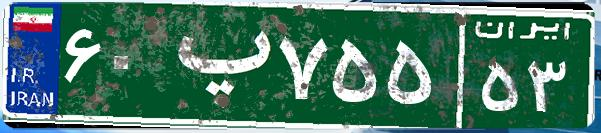0: (110, 28, 158, 105)
3: (525, 38, 570, 115)
5: (385, 28, 445, 110), (330, 28, 385, 110), (475, 38, 525, 113)
6: (57, 26, 110, 107)
7: (273, 28, 330, 110)
پ: (158, 15, 273, 115)
